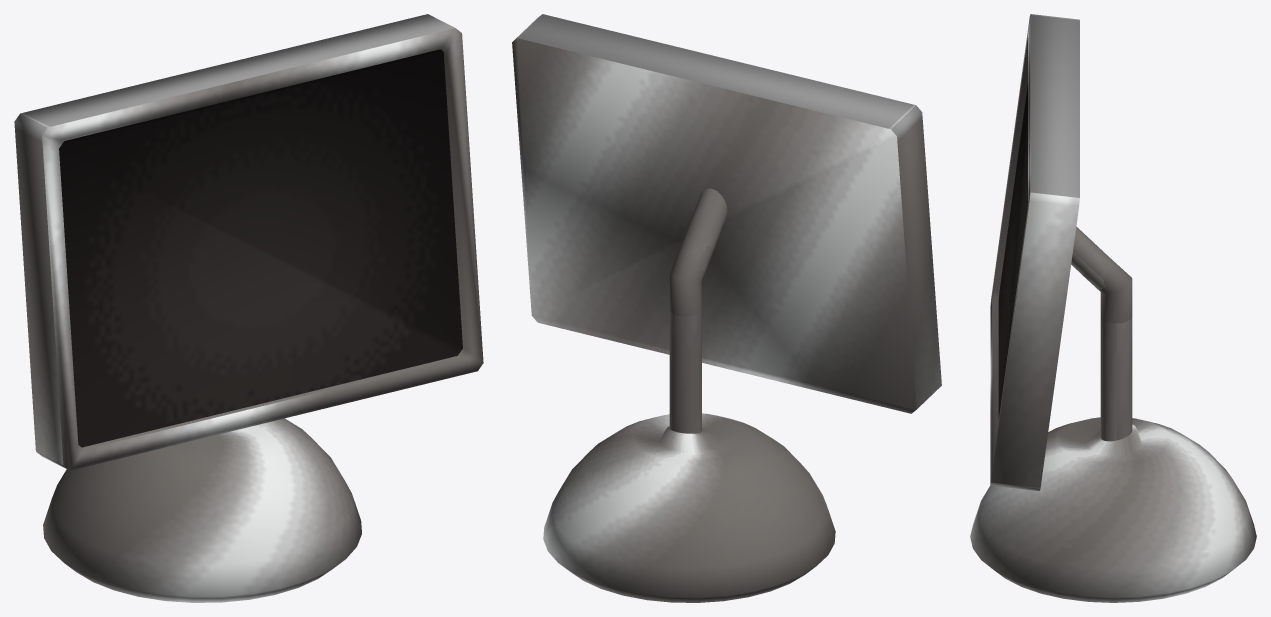
File: SmallMonitor.fbx
3 renders of one model, left to right at view 1: azimuth 30°, elevation 25°; view 2: azimuth 150°, elevation 25°; view 3: azimuth 270°, elevation 25°, orthographic. The views are drawn at different scales.
Visible parts, largest first — view 1: Screen, Base; view 2: Screen, Base, Post; view 3: Base, Screen, Post.
Part boxes in pixels (box(x1,y1,x2,y2)): Screen: box(14, 14, 483, 470); Base: box(43, 418, 361, 602); Screen: box(512, 14, 941, 413); Base: box(543, 413, 835, 602); Post: box(669, 188, 727, 433); Base: box(970, 417, 1256, 602); Screen: box(990, 14, 1079, 490); Post: box(1071, 226, 1132, 441).
Bounding box in the file's own units: 79.54 × 89.93 × 52.44.
